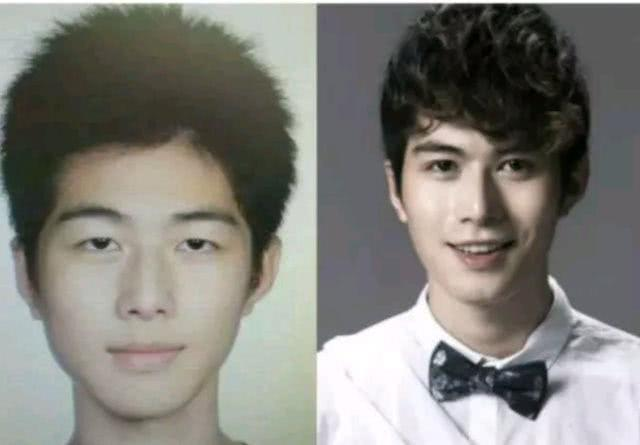unmask: (57, 159, 237, 393), (405, 112, 552, 282)
